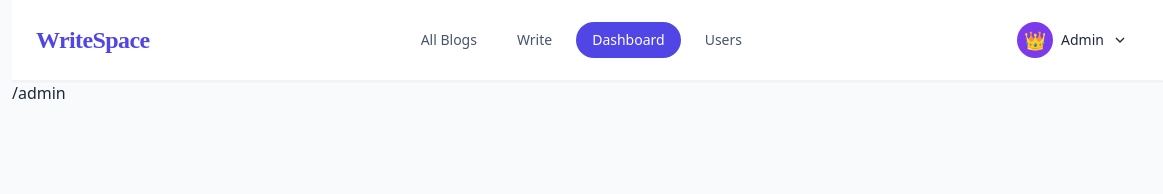
Test: Navbar.jsx › keeps the persisted session and reports failed logout instead of pretending success
The width and height of the screenshot is (1163, 194).
Click the button with aria-label "Account options for Admin" at {"x": 1077, "y": 40}, box x1=1013 y1=18 x2=1140 y2=62
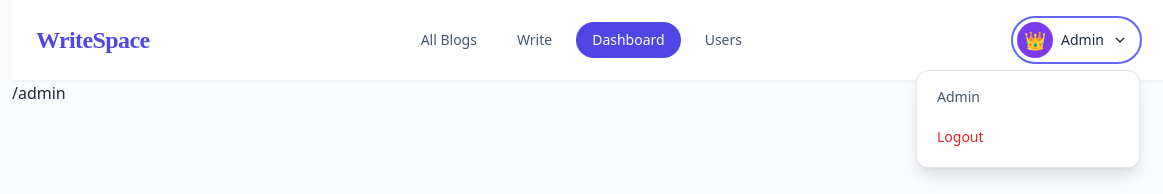
Click the button "Logout" at {"x": 1028, "y": 137}, box x1=925 y1=115 x2=1131 y2=159
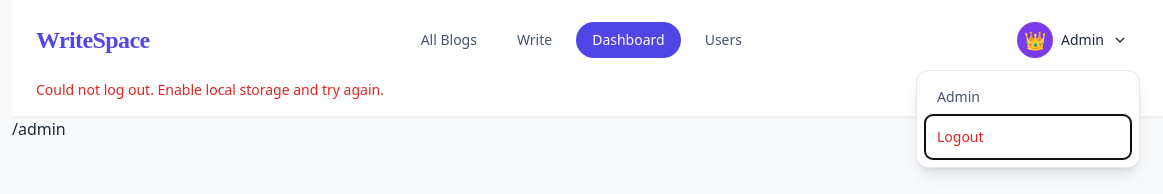
Expected: the text named "Current route" reads "/admin", x1=12 y1=118 x2=66 y2=140
Result: the message shows "Could not log out" at x1=36 y1=80 x2=384 y2=99
